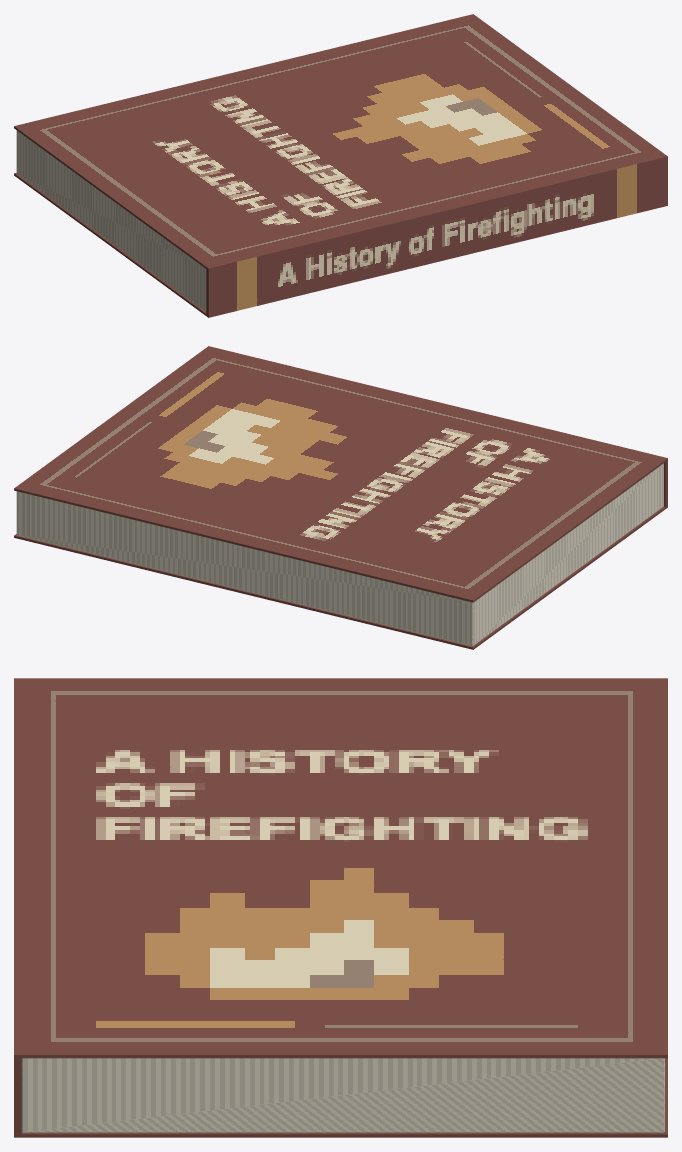
The model's file is textbook_fireman.glb.
3 views of the same model, one above another, from view 1: azimuth 30°, elevation 25°; view 2: azimuth 150°, elevation 25°; view 3: azimuth 270°, elevation 25° (orthographic). The views are drawn at different scales.
Parts seen in each view (by area): view 1: block_front, block_spine, block_pages, block_back; view 2: block_front, block_pages, block_back, block_spine; view 3: block_front, block_pages, block_back, block_spine.
Part boxes in pixels (box(x1,y1,x2,y2)): block_front: box(14, 14, 665, 269); block_spine: box(206, 155, 667, 317); block_pages: box(16, 130, 206, 311); block_back: box(14, 173, 207, 316); block_front: box(14, 346, 667, 602); block_pages: box(16, 463, 663, 646); block_back: box(14, 506, 667, 649); block_spine: box(207, 346, 667, 507); block_front: box(16, 678, 667, 1058); block_pages: box(21, 1058, 664, 1132); block_back: box(16, 1058, 667, 1137); block_spine: box(14, 678, 21, 1137).
Size of the model in its own units: 0.252 by 0.0259 by 0.1849.
Materials: 1 (1 with a texture image).
